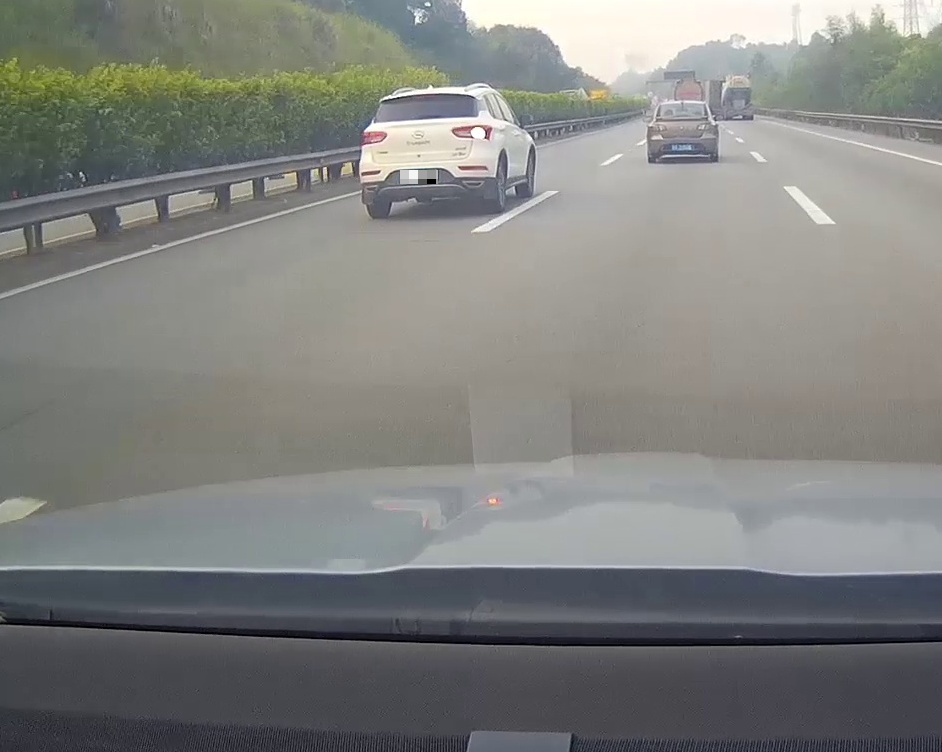L_light: (360, 131, 388, 146), (648, 124, 667, 131)
R_light: (451, 125, 492, 141), (697, 123, 712, 130)
T_light: (647, 101, 719, 164), (419, 94, 435, 98), (679, 103, 687, 105)
day-right: (359, 83, 501, 220)
plate_1: (400, 170, 438, 184)
